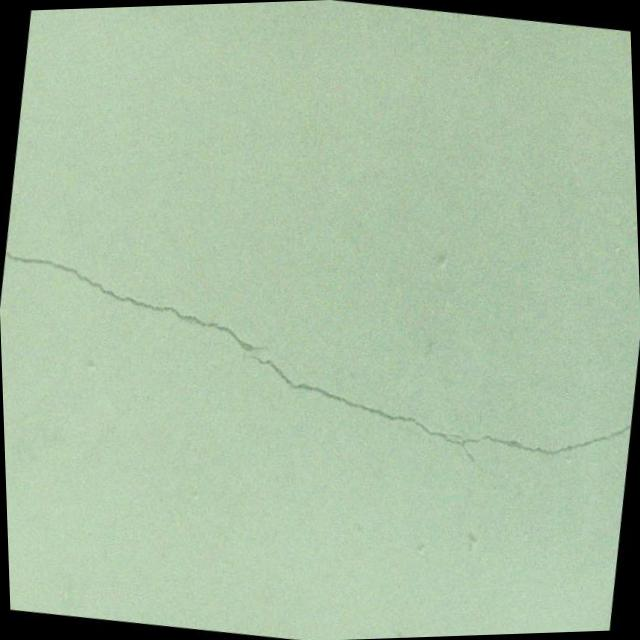crack: (0, 229, 640, 516)
